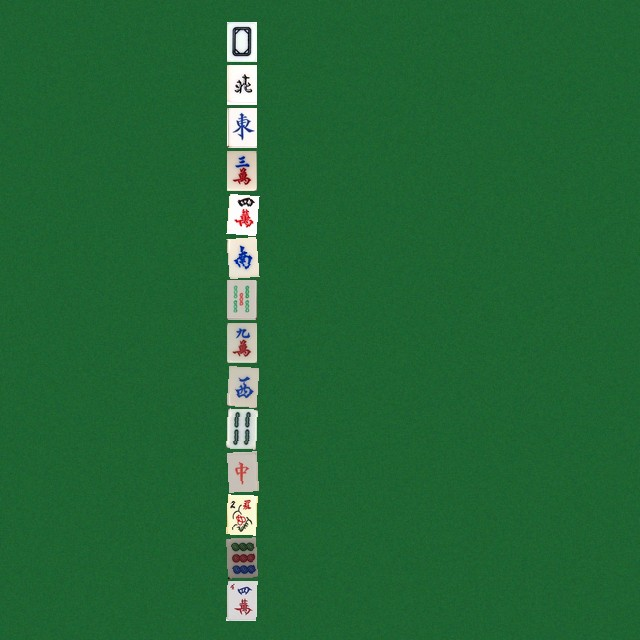tile: (226, 21, 256, 61), (226, 64, 256, 104), (226, 107, 256, 147), (226, 150, 256, 190), (226, 193, 256, 233), (226, 236, 256, 276), (226, 279, 256, 319), (226, 322, 256, 362), (226, 365, 256, 405), (226, 408, 256, 448), (226, 451, 256, 491), (226, 494, 256, 534), (226, 537, 256, 577), (226, 580, 256, 620)
